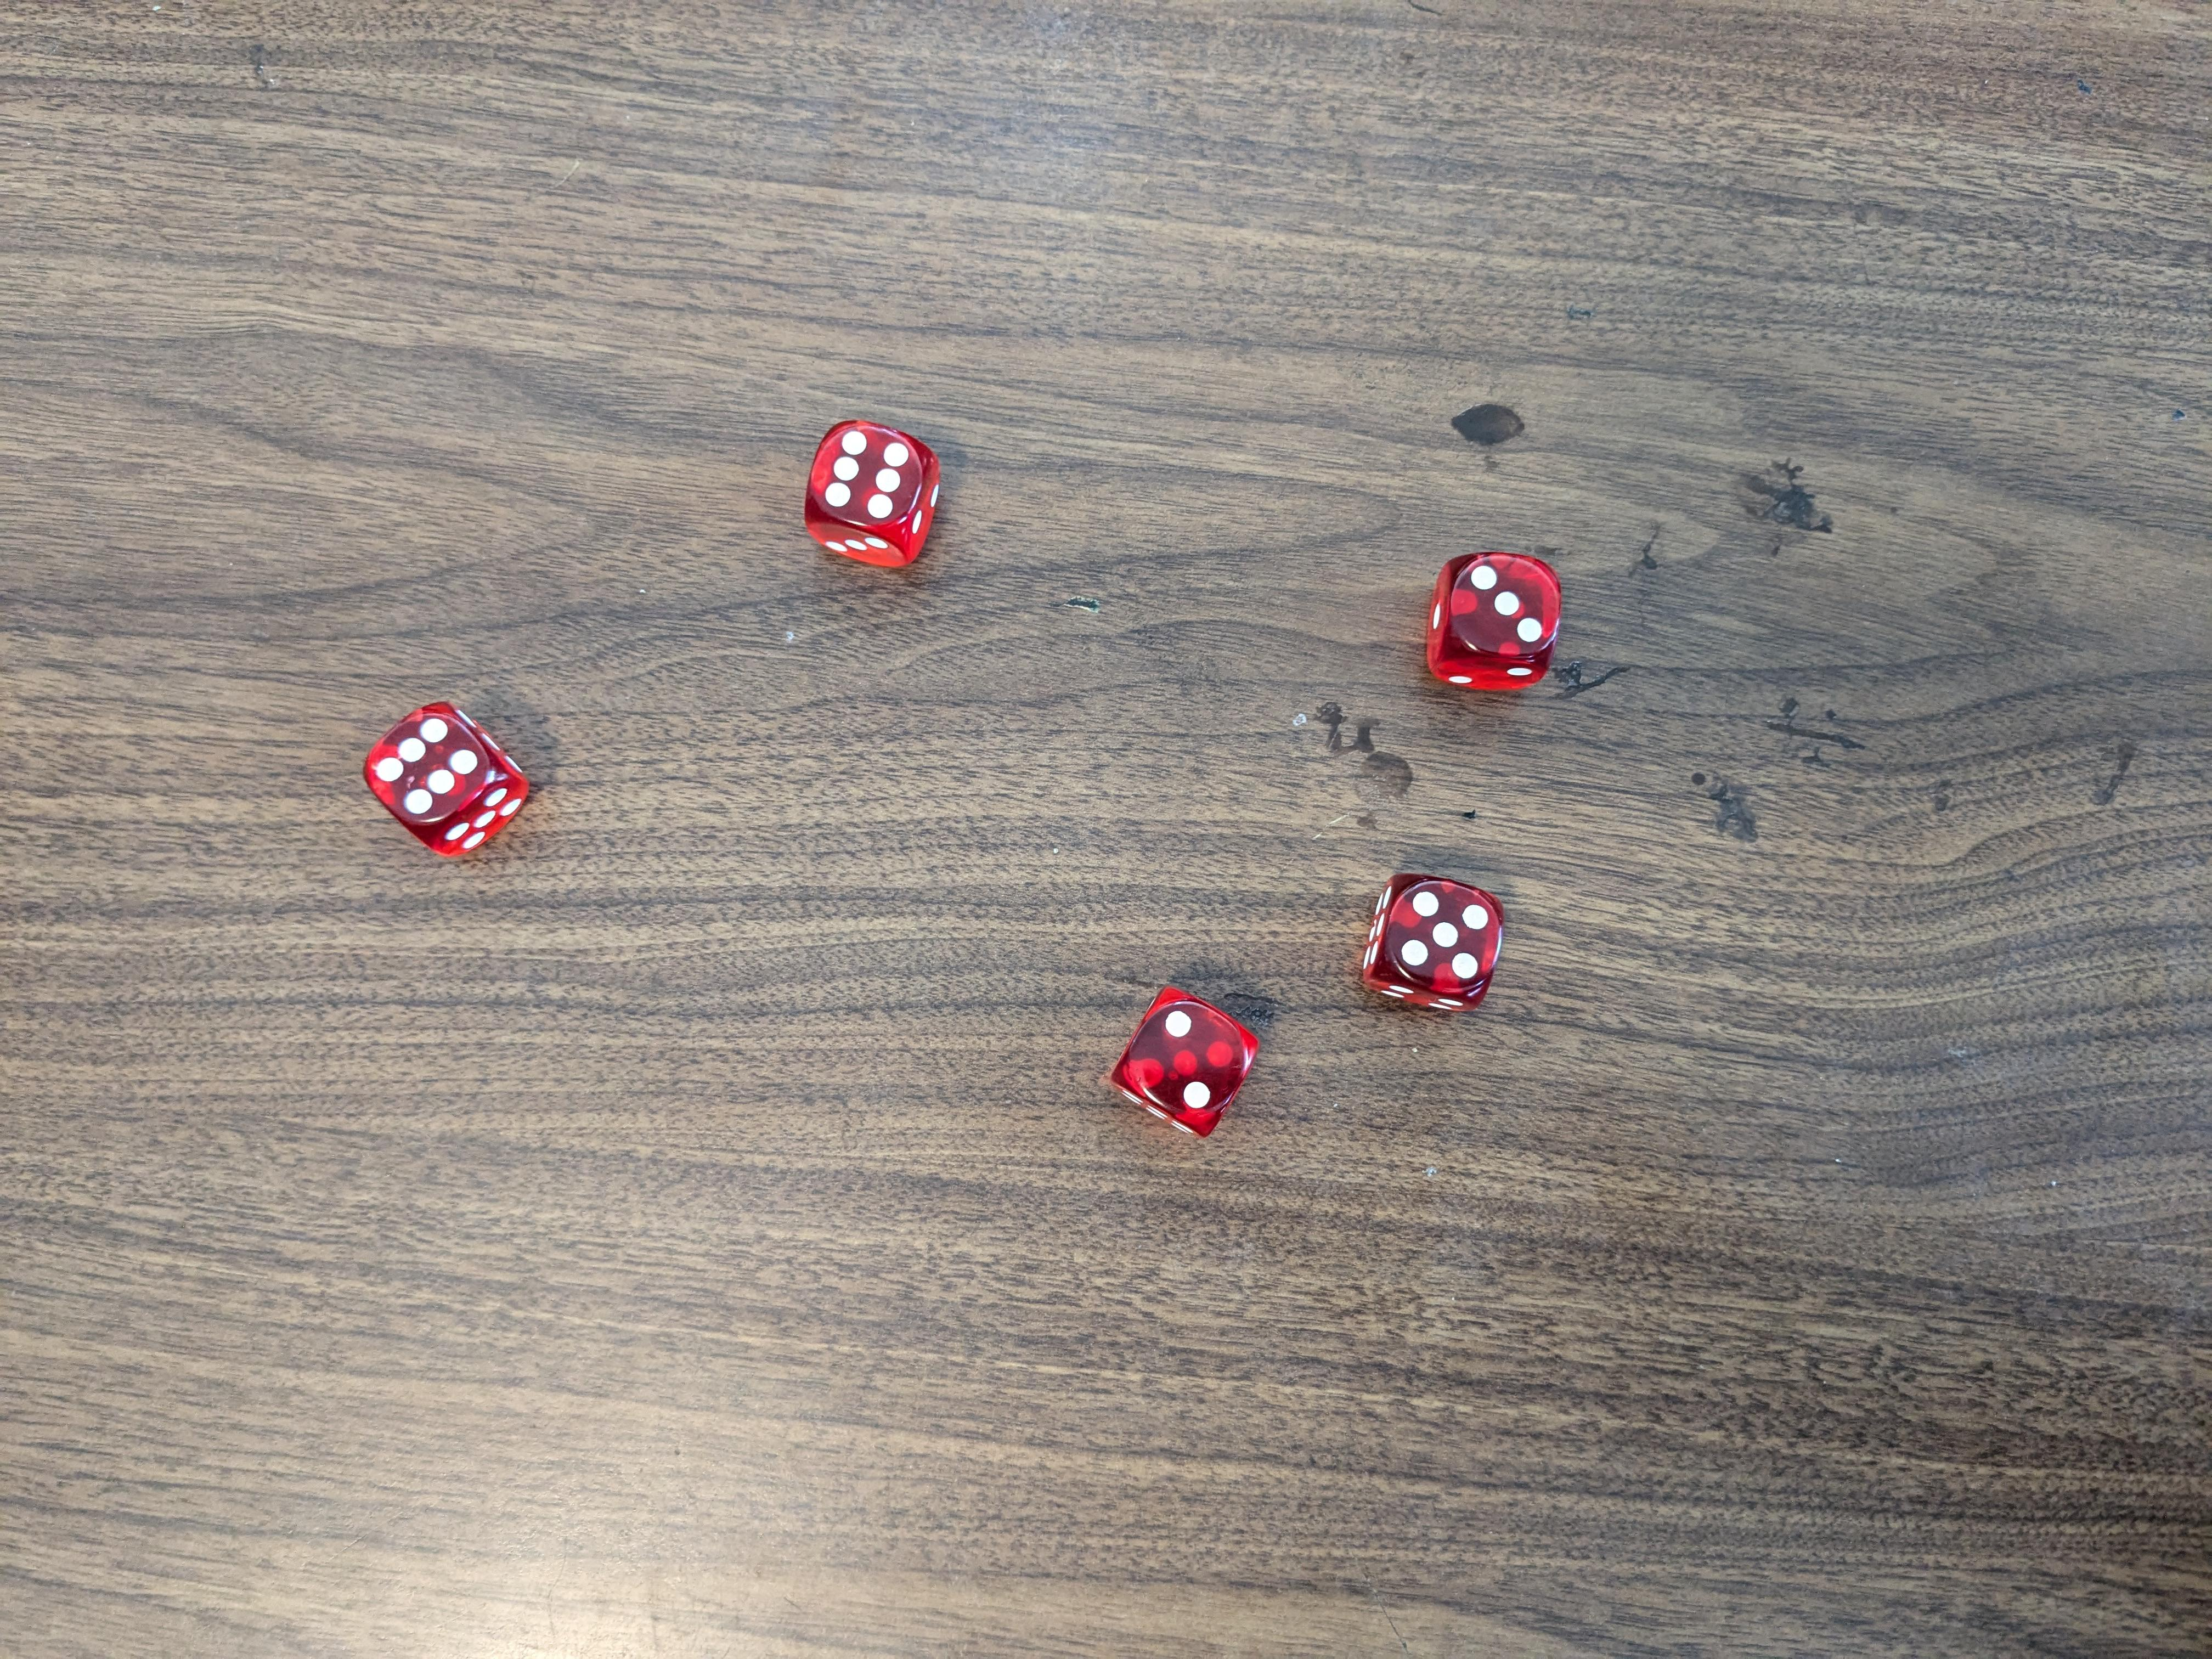five: (1353, 871, 1510, 1019)
six: (362, 702, 540, 859), (798, 415, 946, 577)
three: (1425, 549, 1561, 697)
two: (1106, 985, 1263, 1138)
